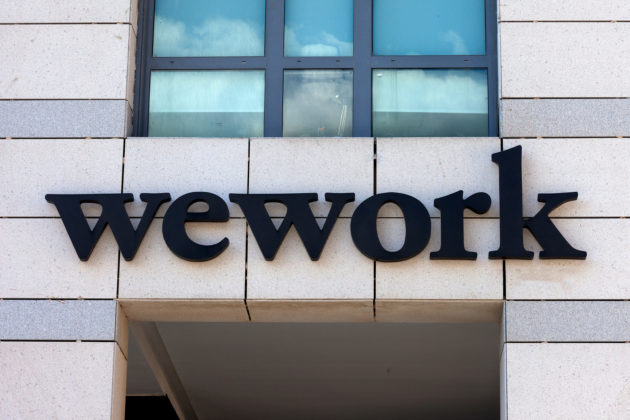wework: (41, 141, 591, 268)
